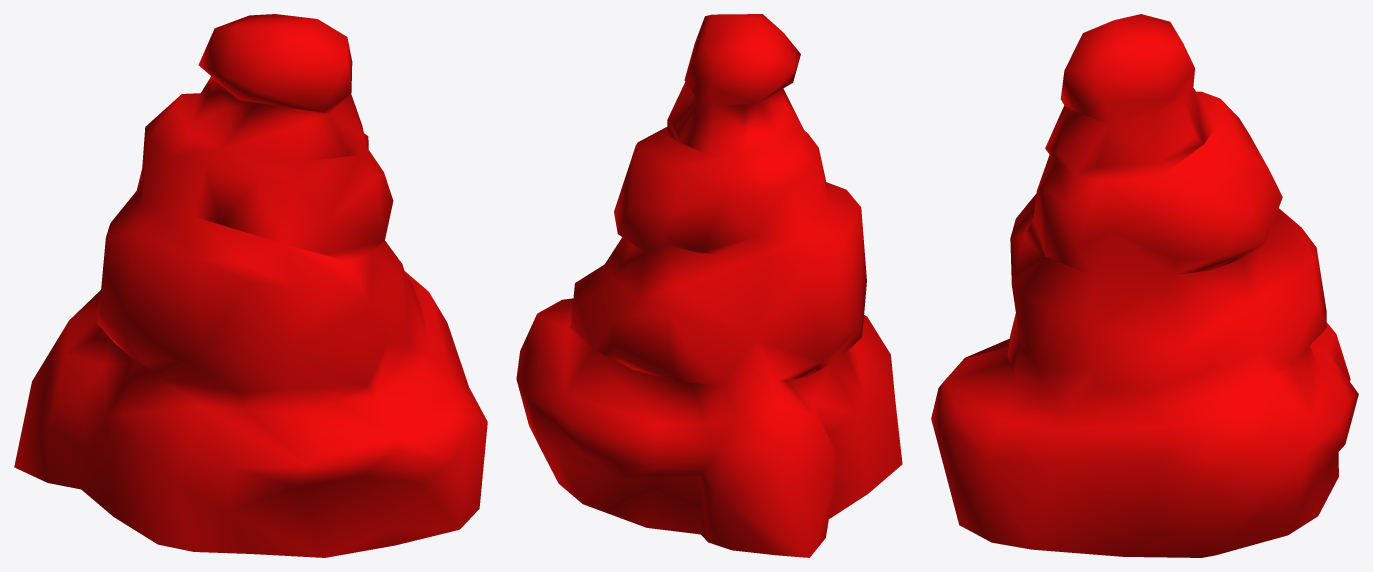
File: rock_A_low.FBX
3 renders of one model, left to right at view 1: azimuth 30°, elevation 25°; view 2: azimuth 150°, elevation 25°; view 3: azimuth 270°, elevation 25°, orthographic. The views are drawn at different scales.
Visible parts, largest first — view 1: rock_A_LOW; view 2: rock_A_LOW; view 3: rock_A_LOW.
Part boxes in pixels (x1=…): rock_A_LOW: x1=14, y1=14, x2=487, y2=557; rock_A_LOW: x1=516, y1=14, x2=902, y2=557; rock_A_LOW: x1=931, y1=14, x2=1358, y2=557.
Size of the model in its own units: 166 by 210 by 177.
